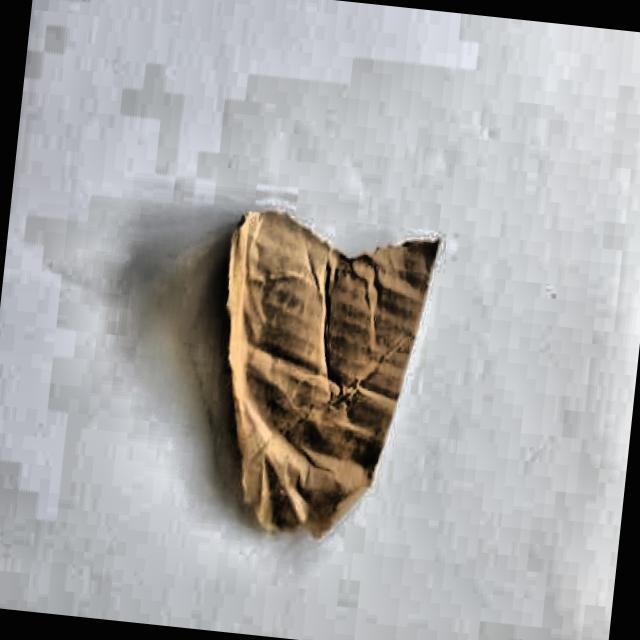cardboard: (200, 203, 443, 548)
